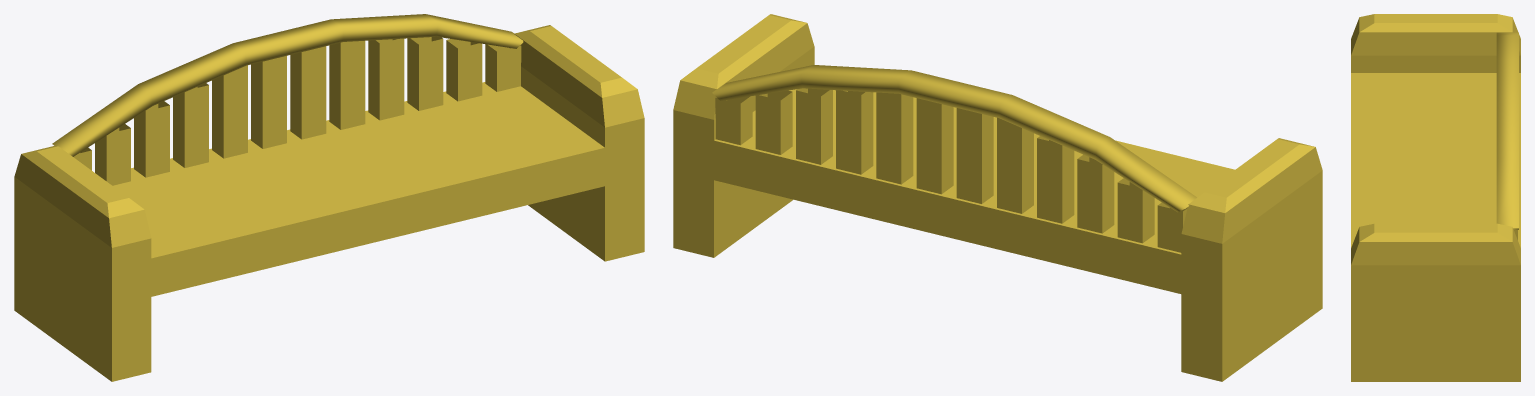
The model's file is Banco.fbx.
The picture shows the model from 3 angles, left to right: view 1: azimuth 30°, elevation 25°; view 2: azimuth 150°, elevation 25°; view 3: azimuth 270°, elevation 25°; orthographic projection. The views are drawn at different scales.
Visible parts, largest first — view 1: Banco.001; view 2: Banco.001; view 3: Banco.001.
Part boxes in pixels (bbox=[...]): Banco.001: bbox=[14, 14, 644, 381]; Banco.001: bbox=[673, 14, 1322, 381]; Banco.001: bbox=[1351, 14, 1520, 381].
Bounding box in the file's own units: 239 × 92.43 × 75.91.
